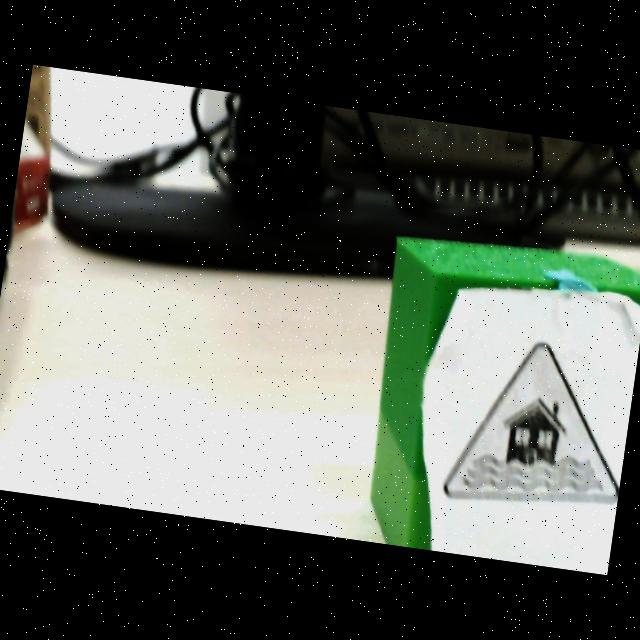Tsunami: (444, 343, 619, 502)
